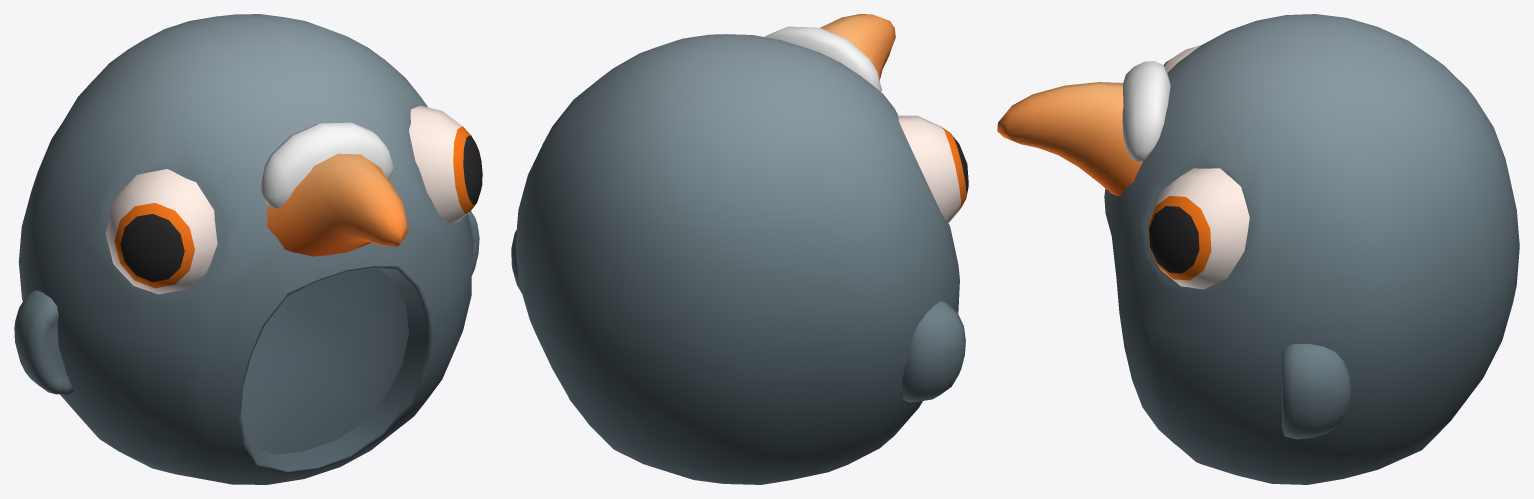
File: Costume_13_02.glb
3 views of the same model, side by side, from view 1: azimuth 30°, elevation 25°; view 2: azimuth 150°, elevation 25°; view 3: azimuth 270°, elevation 25° (orthographic). The views are drawn at different scales.
Parts seen in each view (by area): view 1: Costume_13_02; view 2: Costume_13_02; view 3: Costume_13_02.
Part boxes in pixels (bbox=[...]): Costume_13_02: bbox=[14, 14, 482, 484]; Costume_13_02: bbox=[511, 14, 968, 484]; Costume_13_02: bbox=[997, 14, 1519, 484].
Bounding box in the file's own units: 0.6692 × 0.595 × 0.6708.
1 material, 1 textured.
